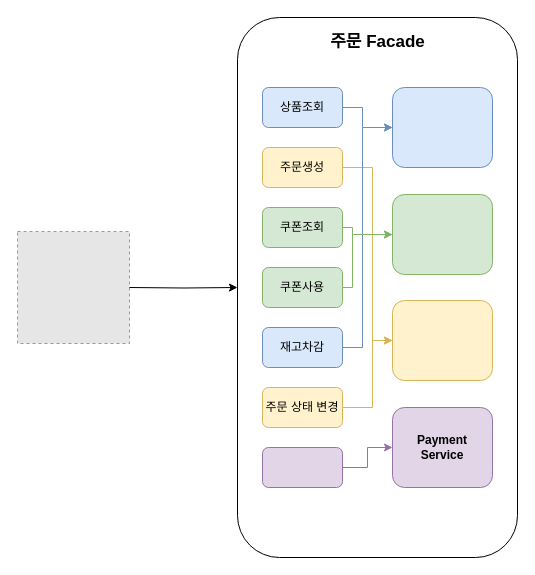
This 535x575 diagram has some shape labels left out. Grey dashed boxes stand in for pictures. Each missing label, with the centre of its shape:
Coupon Service: the point at 442,234
Order Service: the point at 442,340
Product Service: the point at 442,127
결제 정보 저장: the point at 302,467
